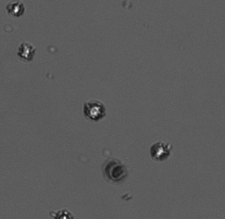Dead Cell: (103, 158, 126, 181)
Living Cell: (84, 103, 106, 121), (151, 142, 170, 161), (18, 43, 33, 59), (8, 2, 24, 16)
